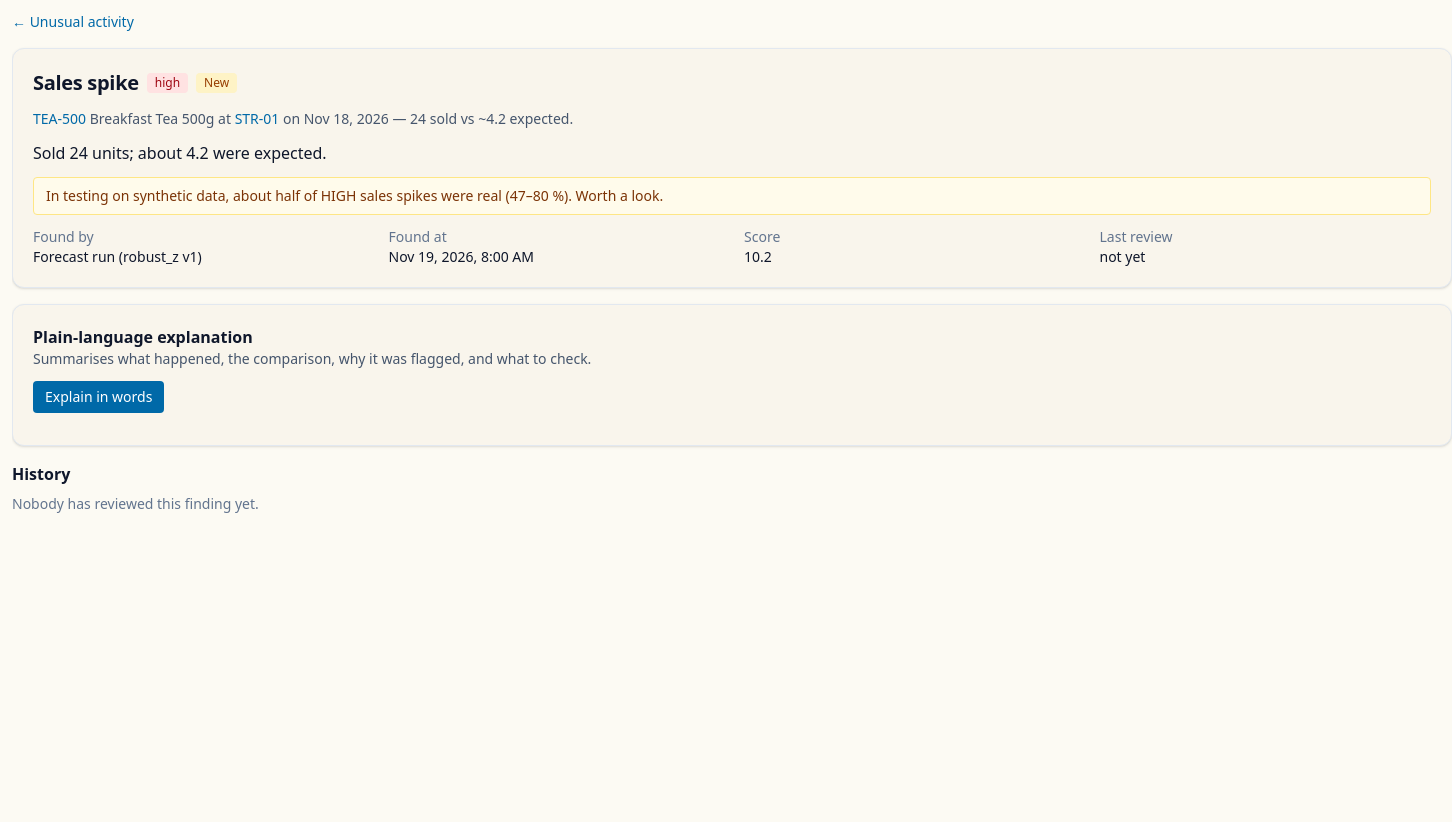
Test: anomaly explanation in words › requests an explanation only after the button is pressed and labels template output
Click the button "Explain in words".
click(99, 397)  # box [33,381,164,413]
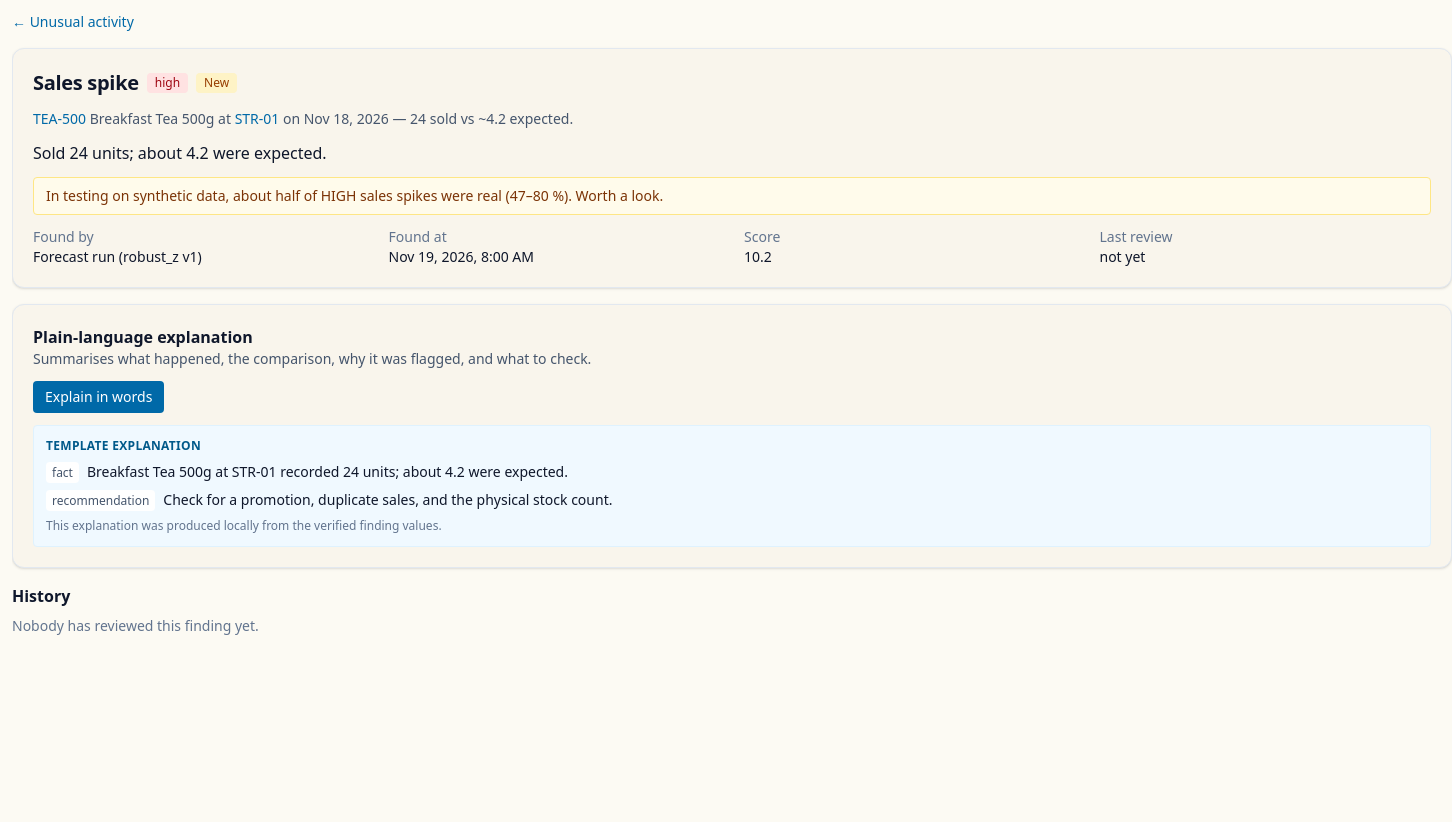
Now the text "Template explanation" is shown, box [46,437,201,454]
Now the text "recommendation" is shown, box [46,490,155,511]
Now the text "promotion, duplicate sales" is shown, box [163,490,612,509]
